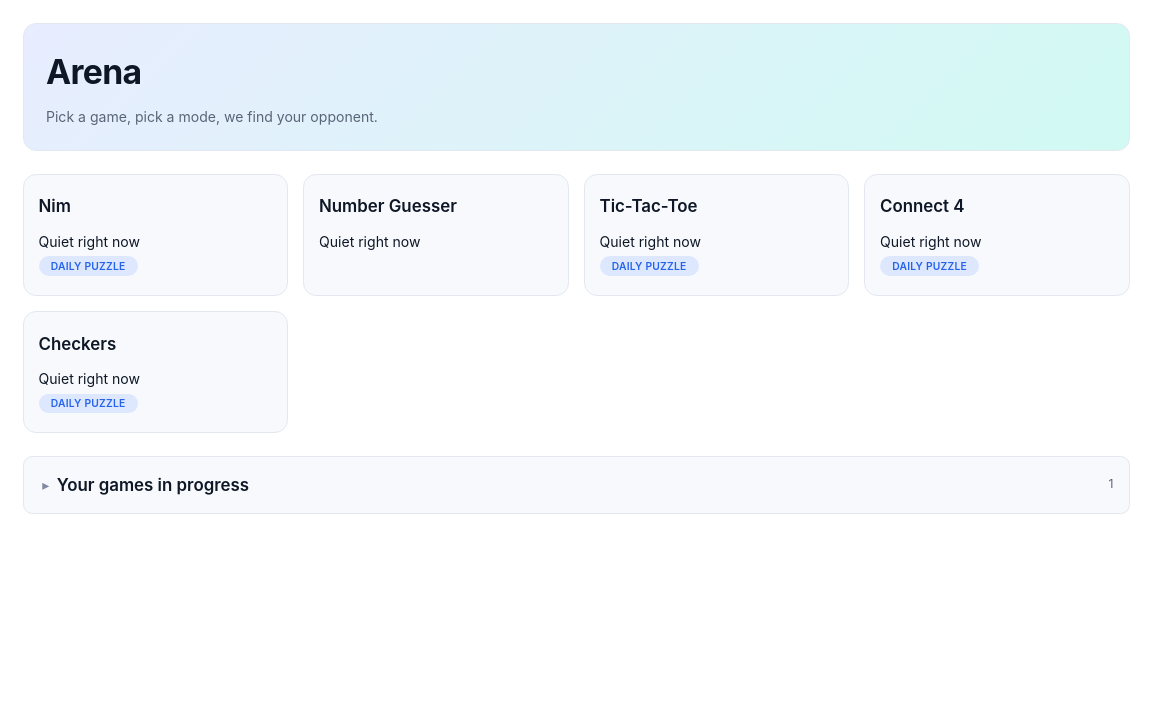
Scenario: GamesPortal in-progress list › lists the user's unfinished games with a status badge
Open the (collapsed) in-progress disclosure.
Click the button with test id "games-in-progress-toggle": click(153, 485) [38, 464, 1097, 505]
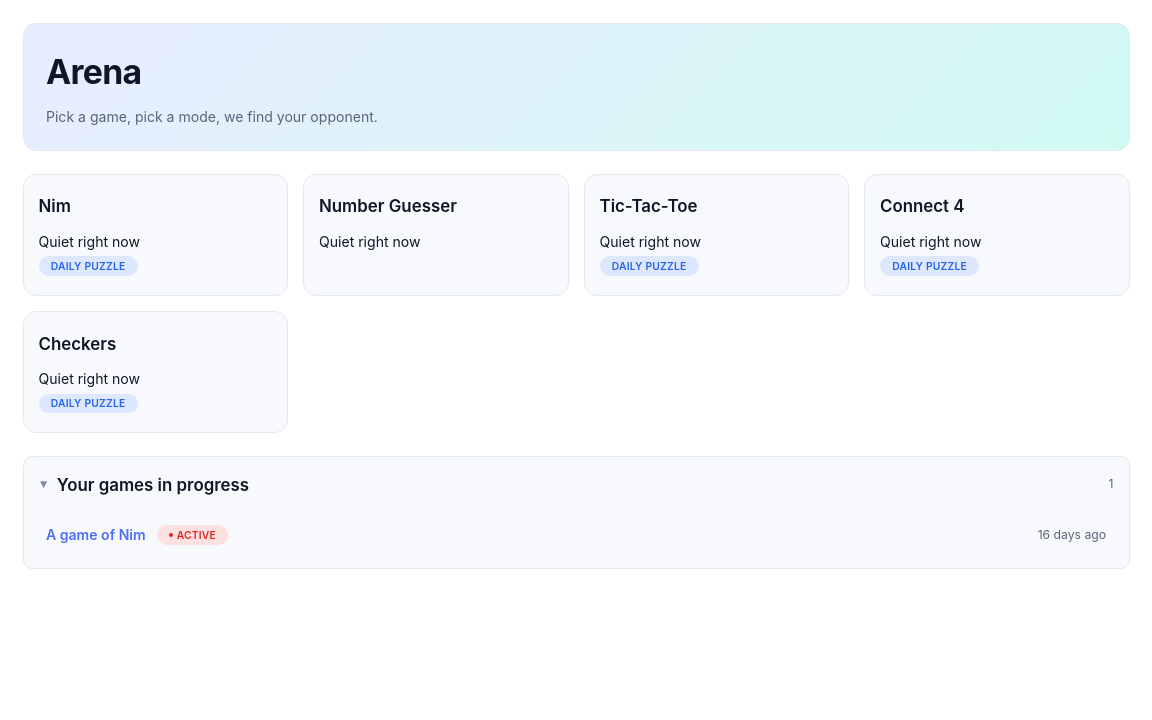
Now the element with test id "in-progress-list" shows "A game of Nim", box [46, 525, 1106, 545]
Now the element with test id "in-progress-list" shows "active", box [177, 529, 216, 541]
